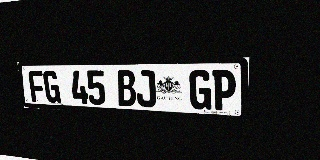4: (70, 70, 89, 104)
5: (86, 70, 106, 105)
B: (116, 70, 137, 107)
F: (28, 71, 46, 103)
G: (189, 70, 212, 110), (42, 70, 61, 103)
J: (135, 70, 156, 107)
P: (212, 70, 236, 111)
